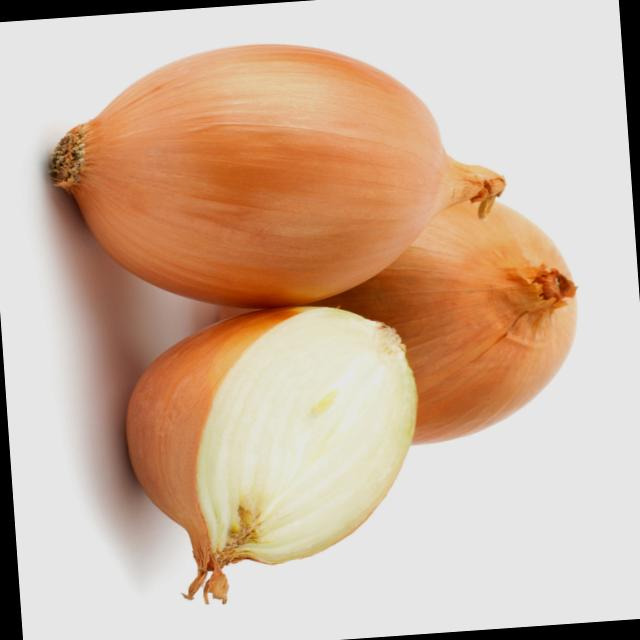onion: (30, 28, 513, 322), (108, 294, 438, 611), (311, 202, 597, 457)
